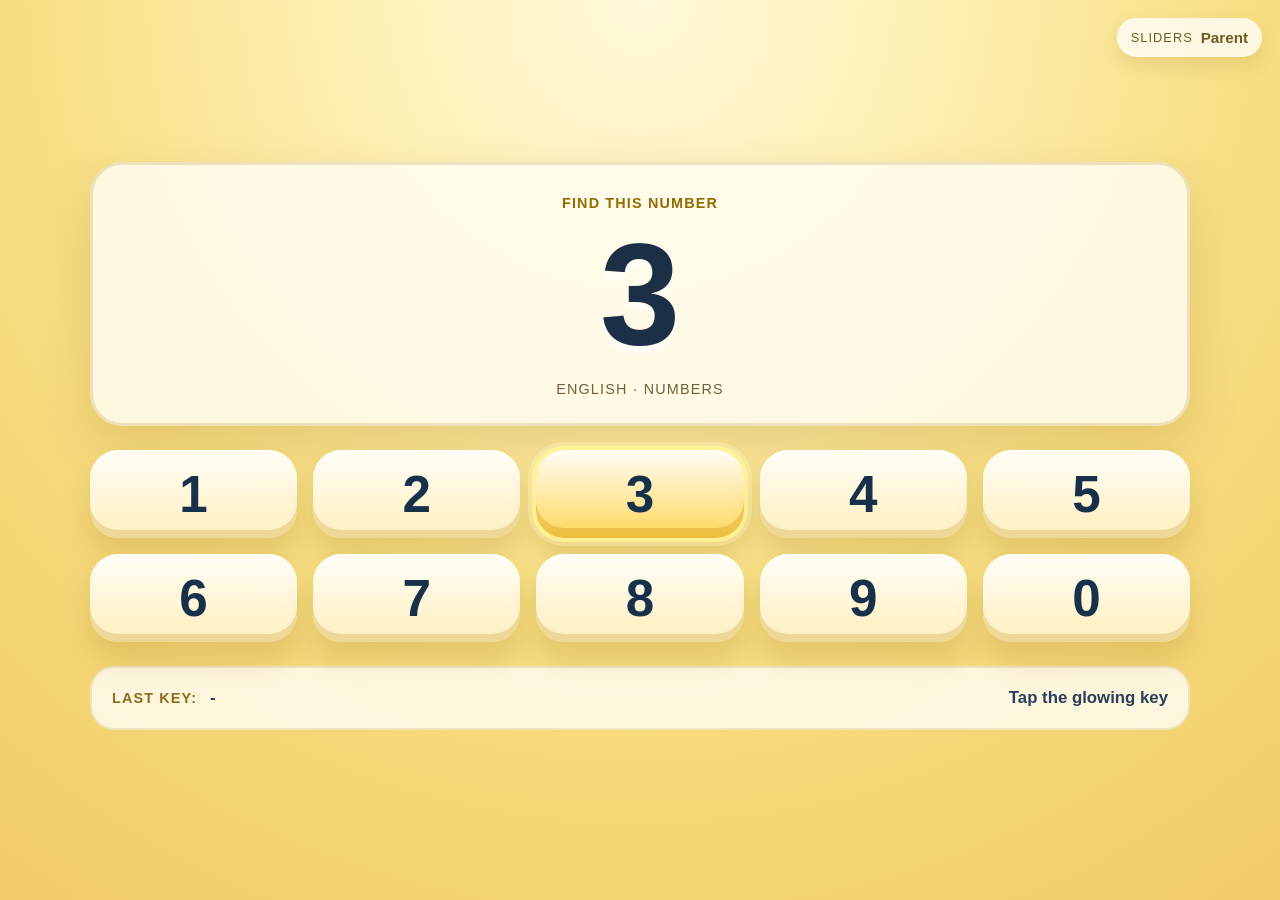
Test case: App › opens the parent drawer and switches the session language
Click the button with aria-label "open parent settings". click: (1189, 38)
box: [1117, 18, 1262, 57]
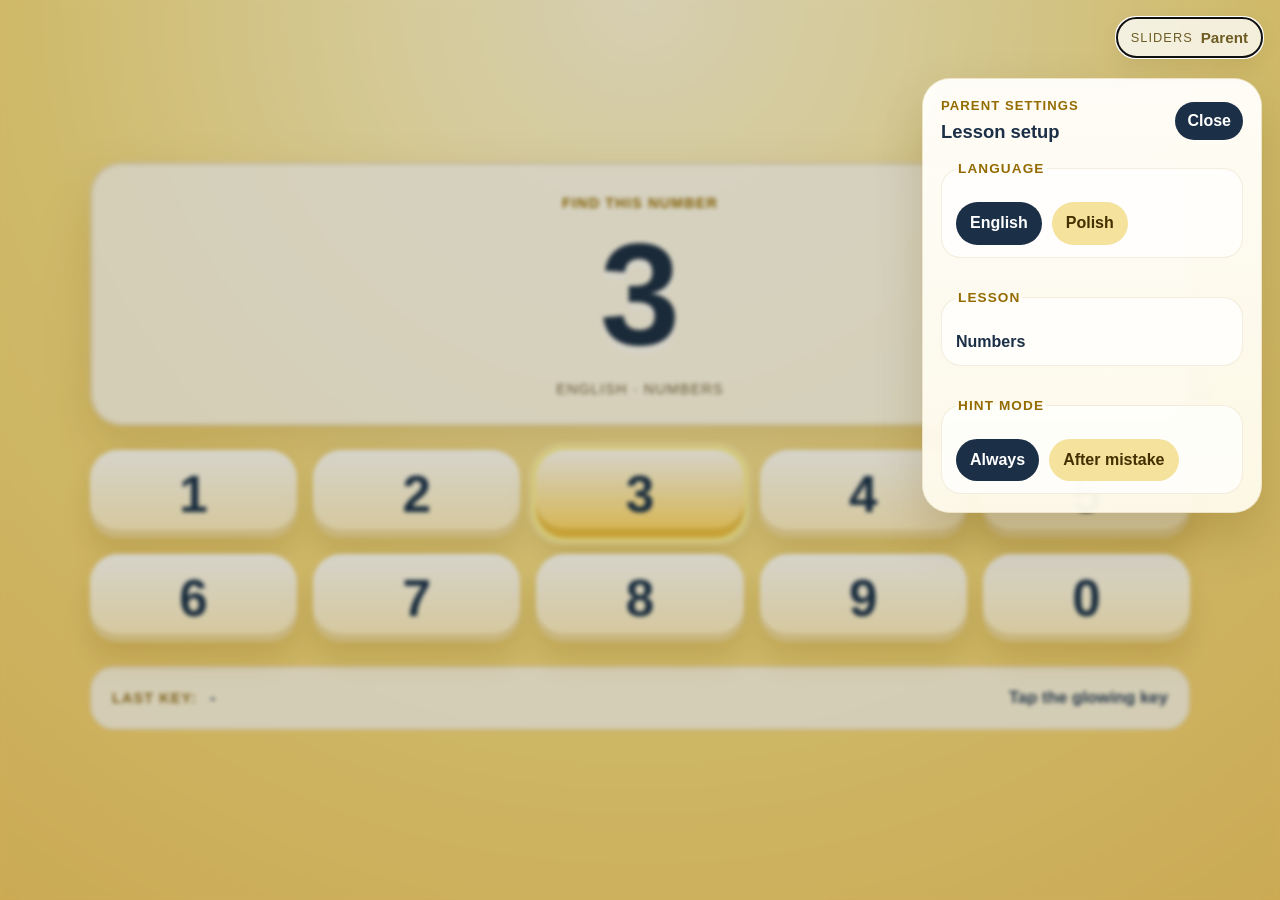
Expected: the dialog "Parent settings" is shown, [922, 78, 1262, 513]
Click the button "Polish". click: (1090, 223)
box: [1052, 202, 1128, 245]
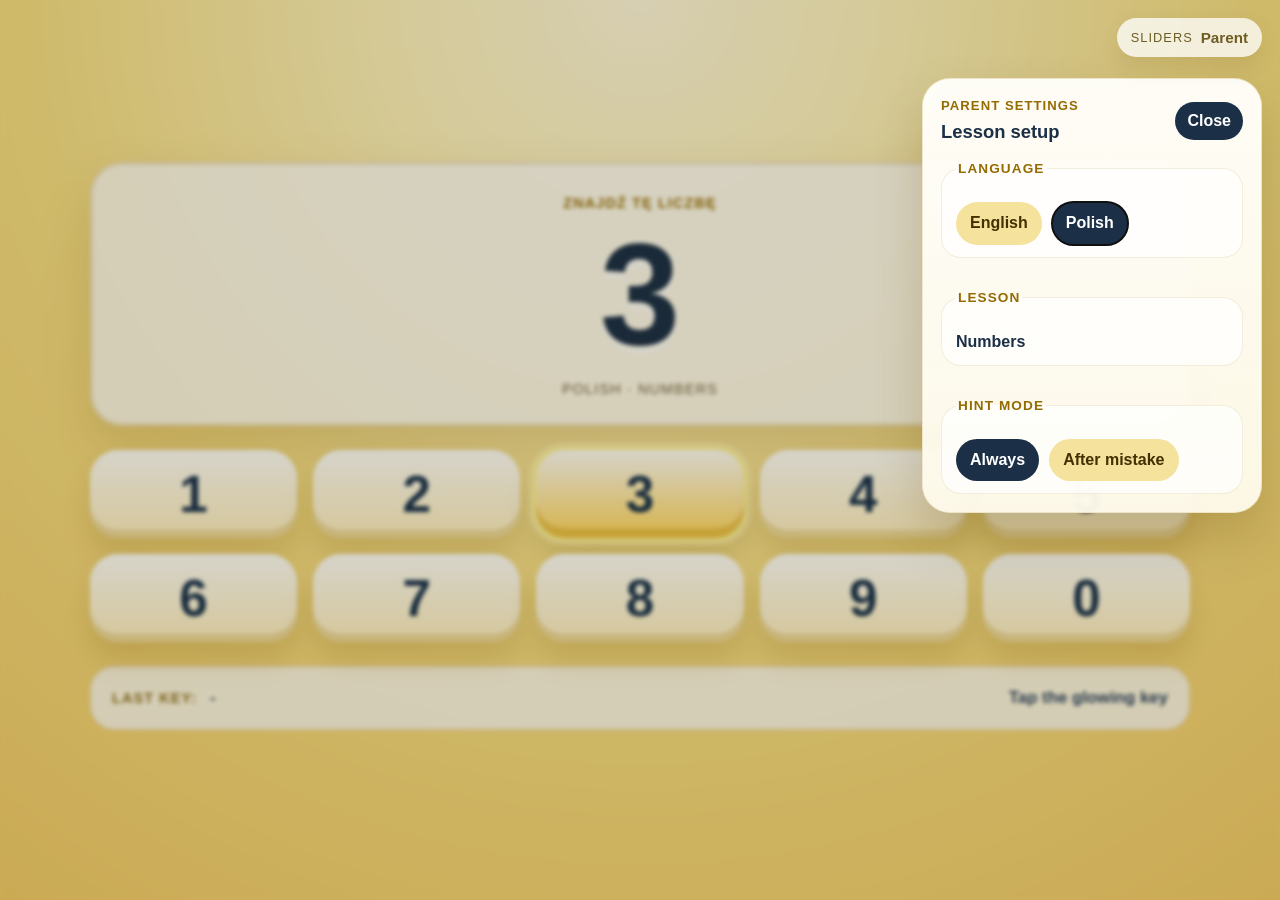
Expected: the button with aria-label "close parent settings" is shown, [1175, 102, 1243, 140]
Expected: the text "Polish · Numbers" is shown, [562, 381, 718, 397]
